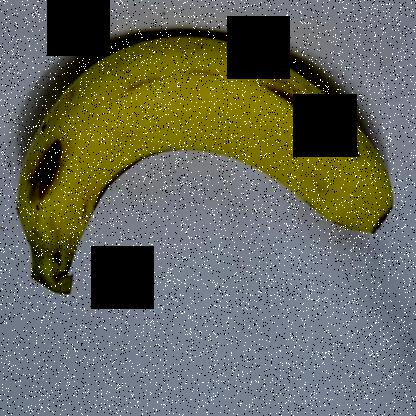freshripe: (12, 16, 405, 308)
